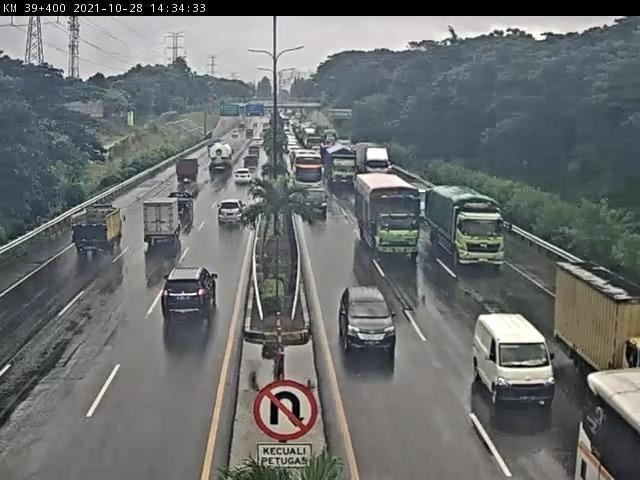bus: (294, 152, 329, 198)
car: (473, 312, 558, 404), (335, 288, 400, 354), (161, 270, 221, 322), (219, 198, 244, 232), (302, 190, 333, 217), (172, 193, 195, 222), (234, 168, 254, 188)
truck: (555, 264, 640, 388), (427, 183, 508, 273), (357, 175, 426, 260), (74, 206, 129, 257), (139, 201, 184, 247), (326, 143, 361, 195), (361, 142, 398, 184), (176, 157, 203, 185)
